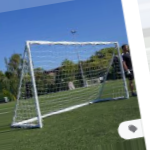goals: (8, 38, 130, 129)
